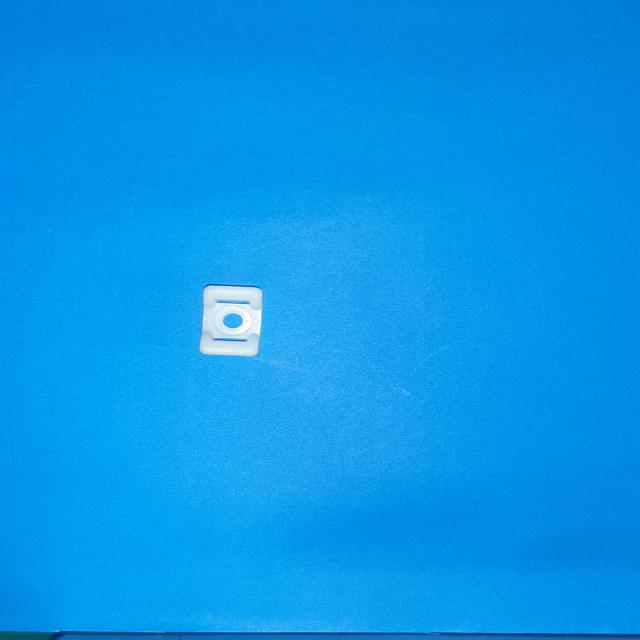true: (200, 285, 263, 356)
true_center: (223, 313, 242, 328)
